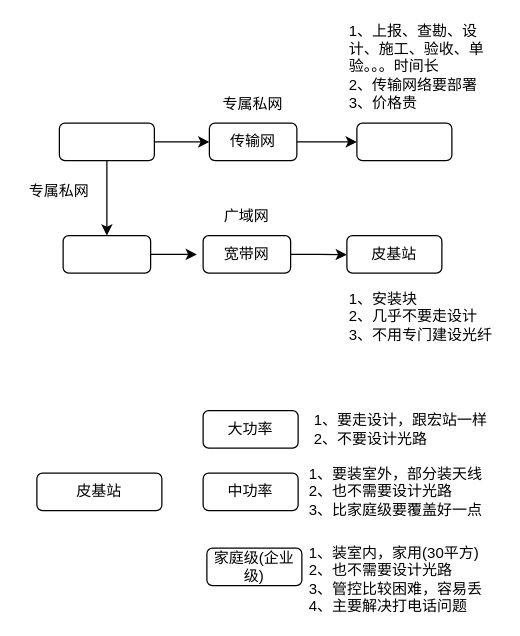
This 520x636 diagram has some shape labels left out. The shapes that lost their labels are listed below. From the top down, each one's box as (x1, y1, x2, y2) in pixels, then its label:
(58, 122, 154, 161): 核心网
(356, 122, 452, 161): 华为基站
(62, 234, 151, 273): 皮基站网关
